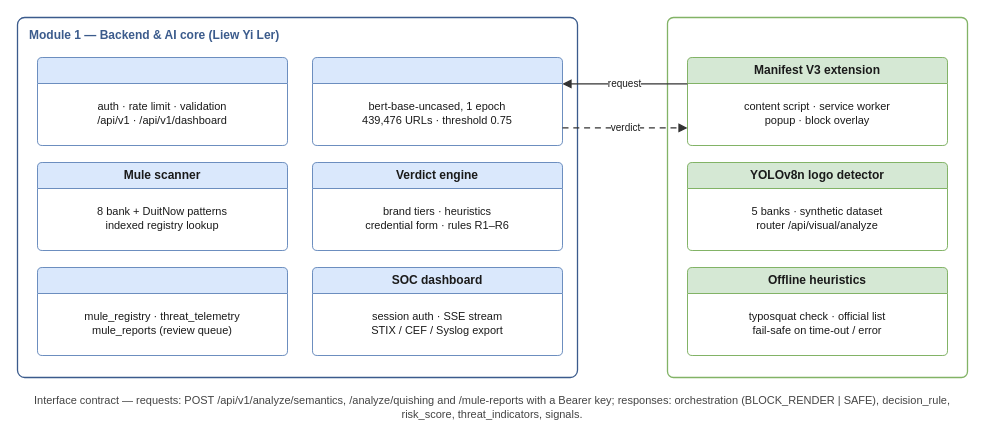
Image size: 986x445. Some labels were removed from this diagram. The box of each missing label's shape, as (x1, y1, x2, y2) in pixels:
BERT URL engine: (312, 56, 562, 146)
FastAPI gateway: (36, 56, 288, 146)
Module 2 — Client & vision (Cheon Jie Han): (666, 16, 968, 378)
SQLite persistence: (36, 266, 288, 356)
